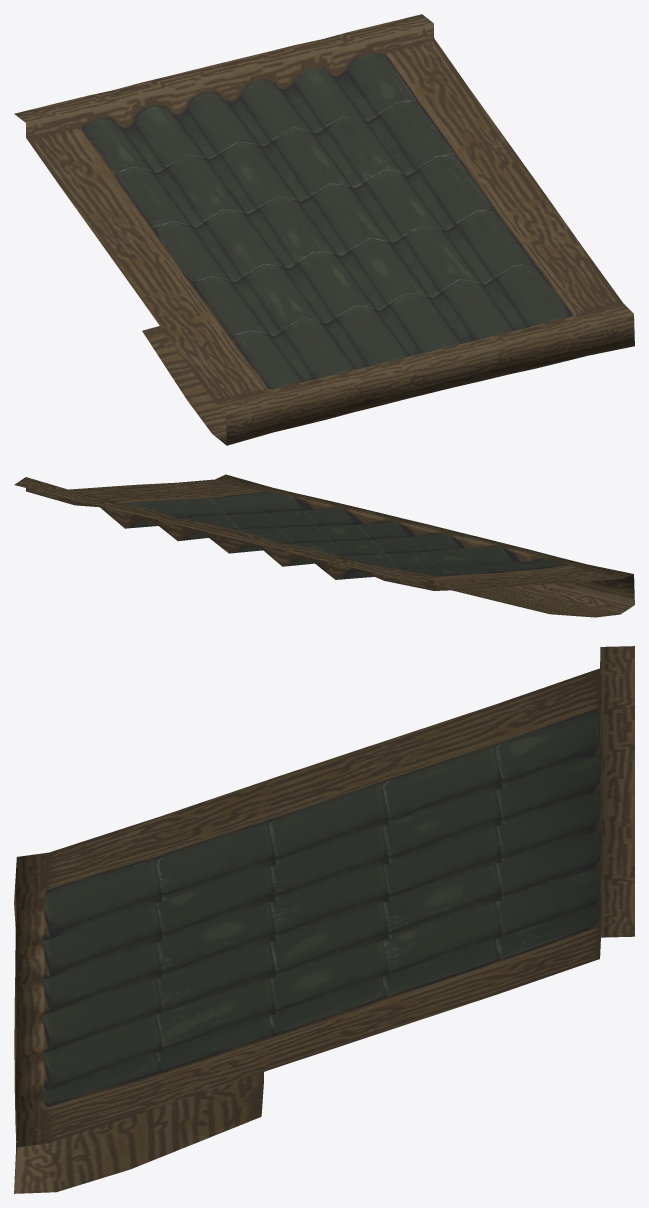
File: Roof_LP.fbx
3 renders of one model, top to bottom at view 1: azimuth 30°, elevation 25°; view 2: azimuth 150°, elevation 25°; view 3: azimuth 270°, elevation 25°, orthographic. The views are drawn at different scales.
Visible parts, largest first — view 1: Roof_LP; view 2: Roof_LP; view 3: Roof_LP.
Boxes of the visible parts, x1=… form: Roof_LP: x1=14, y1=14, x2=634, y2=445; Roof_LP: x1=14, y1=474, x2=634, y2=617; Roof_LP: x1=14, y1=646, x2=634, y2=1193.
Size of the model in its own units: 200 by 82.56 by 181.
Materials: 1 (1 with a texture image).
